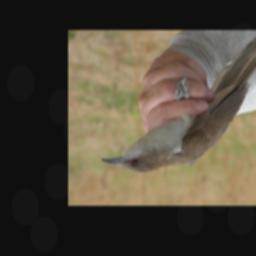Cuckoo: (100, 30, 256, 173)
